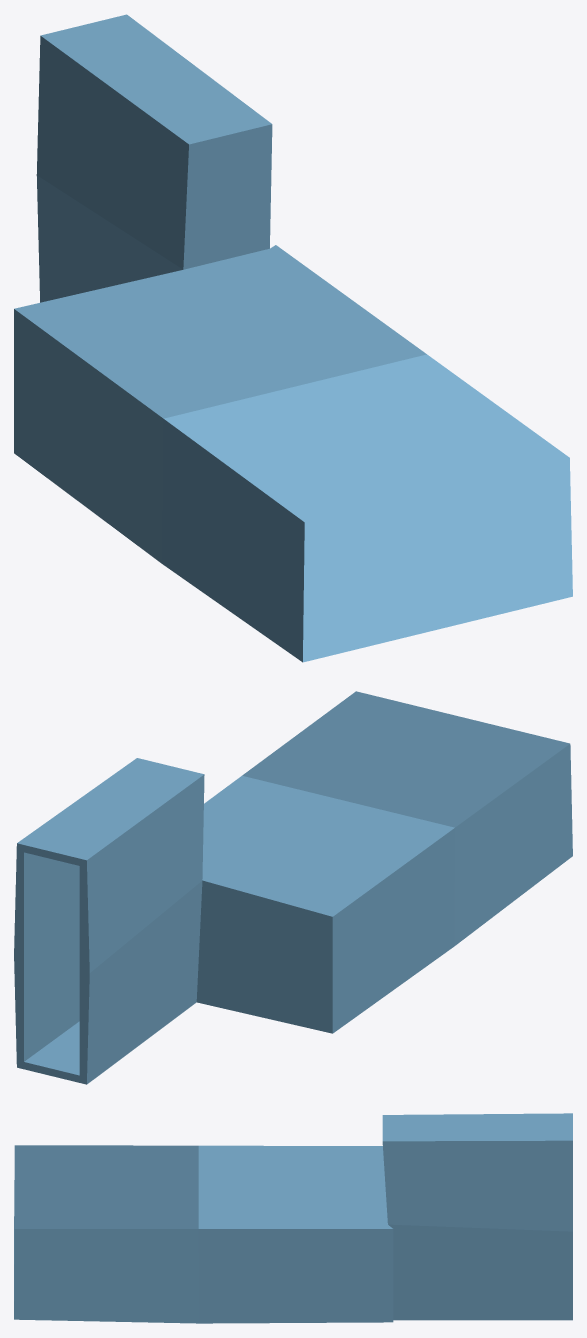
File: mhyexperience.glb
3 views of the same model, one above another, from view 1: azimuth 30°, elevation 25°; view 2: azimuth 150°, elevation 25°; view 3: azimuth 270°, elevation 25° (orthographic). The views are drawn at different scales.
Visible parts, largest first — view 1: 平面; view 2: 平面; view 3: 平面.
Boxes of the visible parts, x1=… form: 平面: x1=14, y1=14, x2=572, y2=662; 平面: x1=14, y1=691, x2=572, y2=1084; 平面: x1=14, y1=1113, x2=572, y2=1323.
Size of the model in its own units: 6.55 by 6.5 by 18.12.
